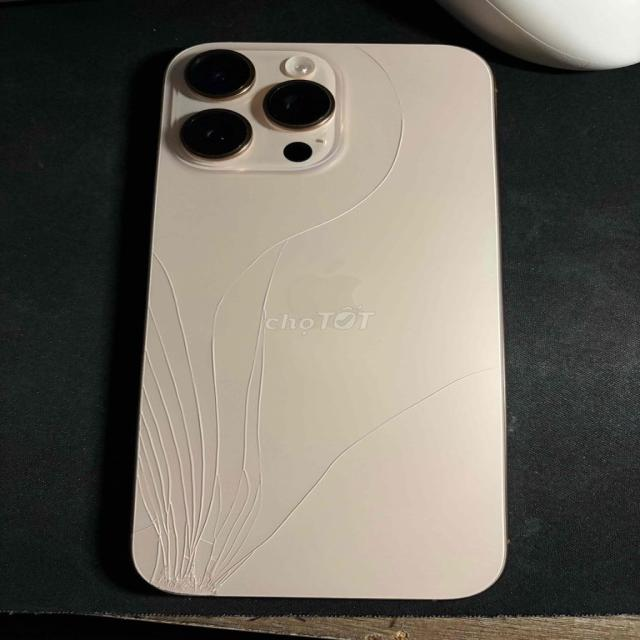physical_damage: (120, 296, 272, 594), (268, 400, 401, 520), (226, 201, 353, 285), (360, 38, 412, 223), (398, 352, 502, 398)
